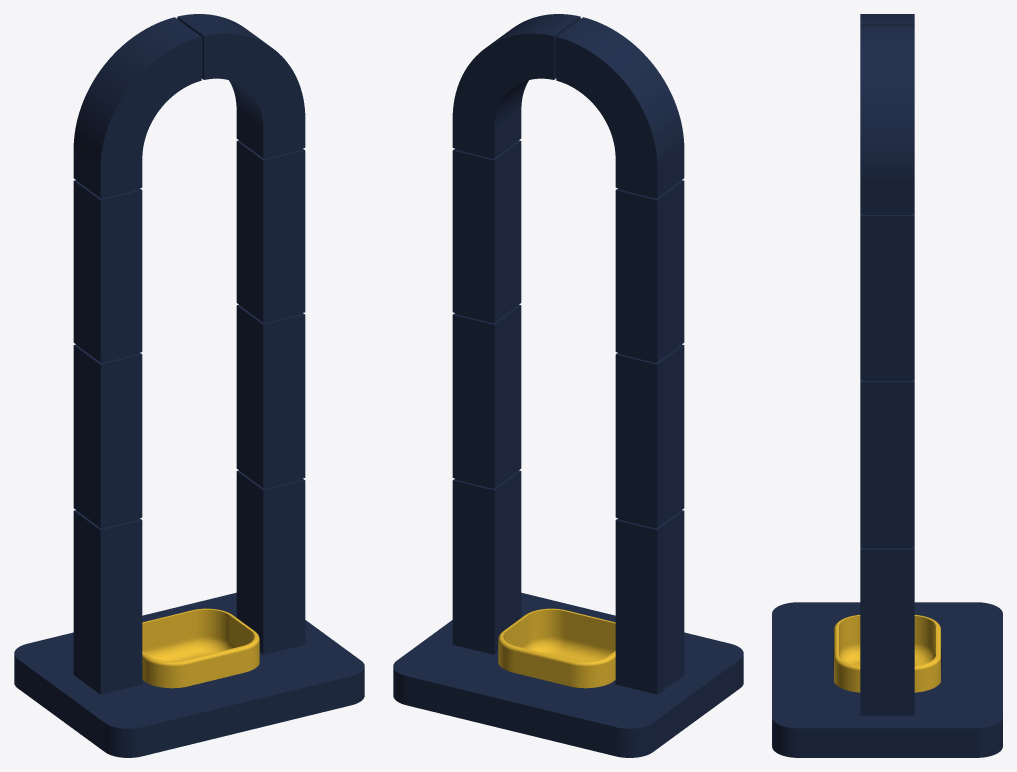
The model's file is porta-incenso.glb.
3 views of the same model, side by side, from view 1: azimuth 30°, elevation 25°; view 2: azimuth 150°, elevation 25°; view 3: azimuth 270°, elevation 25° (orthographic).
Visible parts, largest first — view 1: arco, base, pratinho; view 2: arco, base, pratinho; view 3: base, arco, pratinho.
Part boxes in pixels (left/top/right/bottom): arco: left=73, top=14, right=305, bottom=527; base: left=14, top=470, right=364, bottom=757; pratinho: left=142, top=608, right=259, bottom=688; arco: left=452, top=14, right=684, bottom=527; base: left=393, top=470, right=743, bottom=757; pratinho: left=498, top=608, right=615, bottom=688; base: left=772, top=547, right=1002, bottom=757; arco: left=860, top=14, right=914, bottom=547; pratinho: left=834, top=615, right=940, bottom=692.
Bounding box in the file's own units: 1.1 × 2.72 × 0.85.
